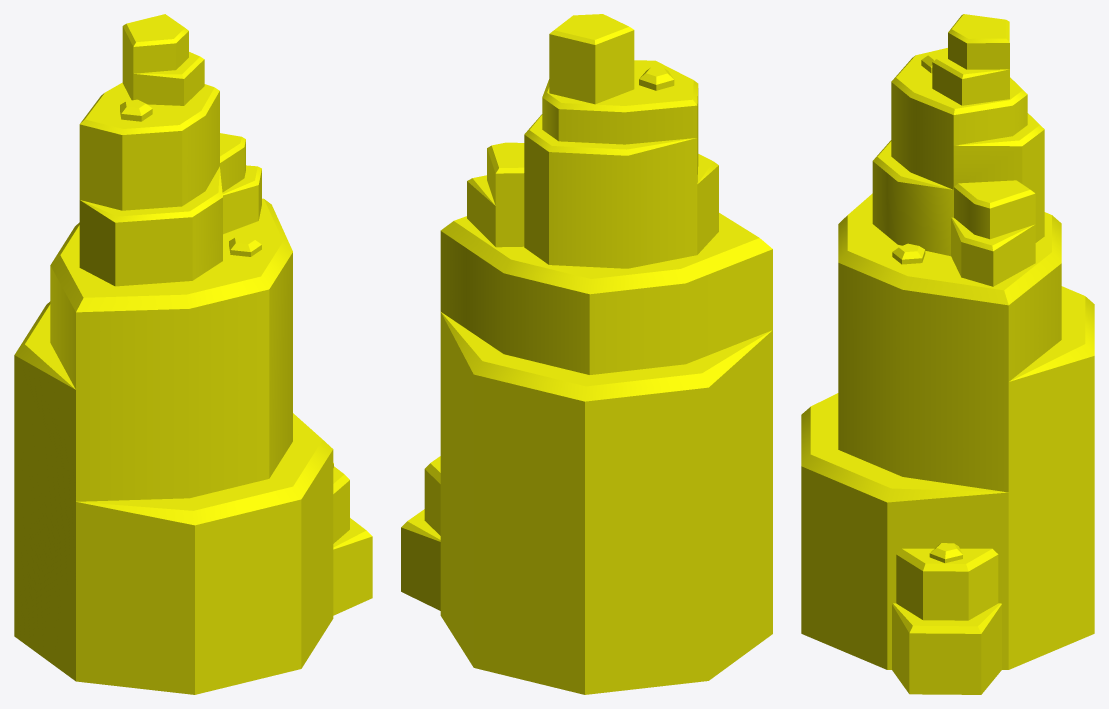
Rendered from kaykit-rock-1-p-color-1.glb.
3 renders of one model, left to right at view 1: azimuth 30°, elevation 25°; view 2: azimuth 150°, elevation 25°; view 3: azimuth 270°, elevation 25°, orthographic. The views are drawn at different scales.
Visible parts, largest first — view 1: Rock_1_P_Color1; view 2: Rock_1_P_Color1; view 3: Rock_1_P_Color1.
Part boxes in pixels (x1,y1,x2,y2): Rock_1_P_Color1: (14, 14, 372, 694); Rock_1_P_Color1: (401, 14, 772, 694); Rock_1_P_Color1: (801, 14, 1094, 694).
Size of the model in its own units: 2.21 by 4.01 by 1.84.
